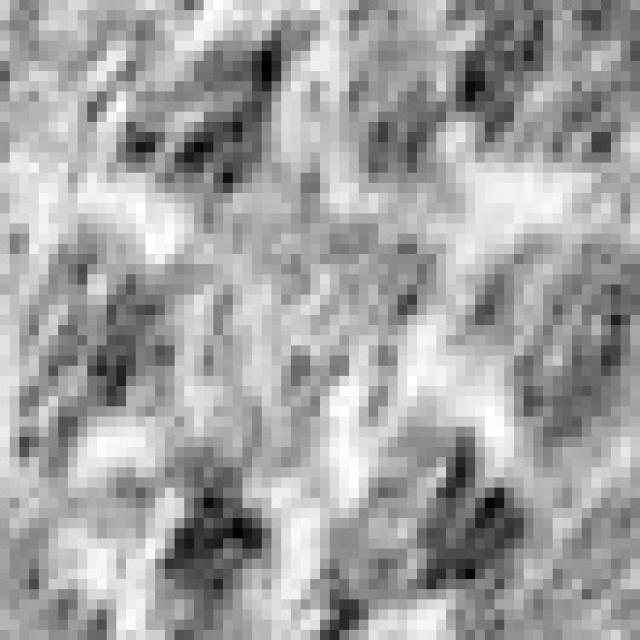inner: (169, 182, 448, 446)
lobe: (336, 428, 540, 627), (462, 231, 633, 449), (23, 222, 167, 450), (116, 28, 284, 196), (158, 447, 281, 638), (344, 5, 447, 181)
outer: (0, 0, 640, 640)
